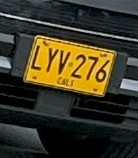number plate: (23, 35, 116, 96)
